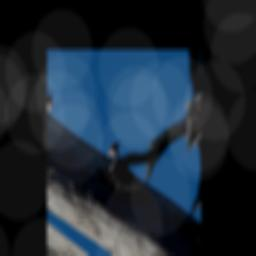Woodpecker: (93, 135, 168, 226)
